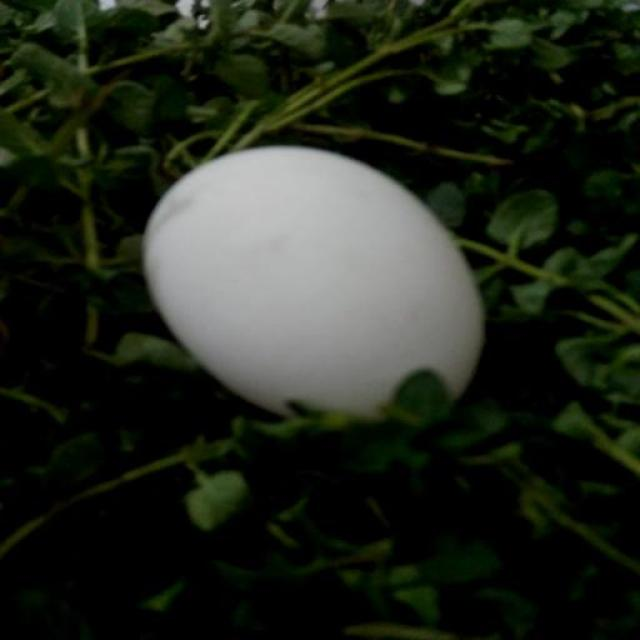telur: (108, 128, 593, 434)
